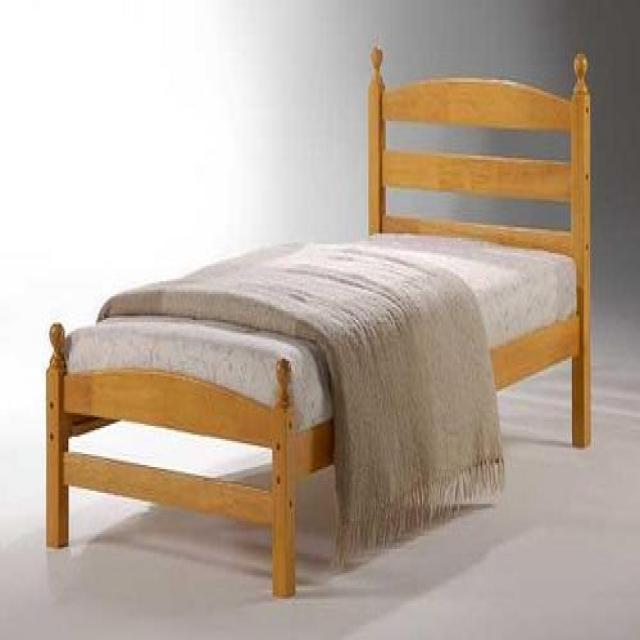bed: (44, 39, 592, 597)
